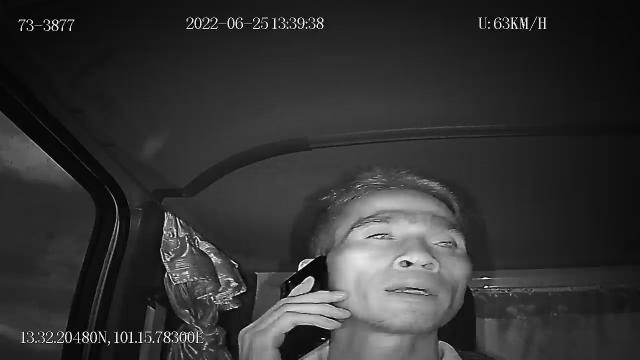PhoneUse: (280, 254, 332, 360)
SafeDriving: (423, 229, 467, 256), (358, 222, 402, 248)
